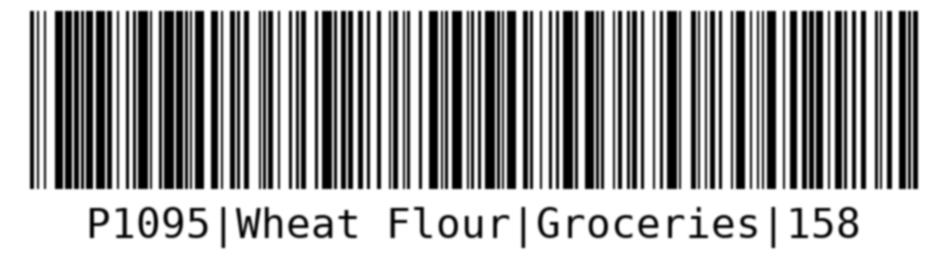milk: (16, 6, 923, 265)
